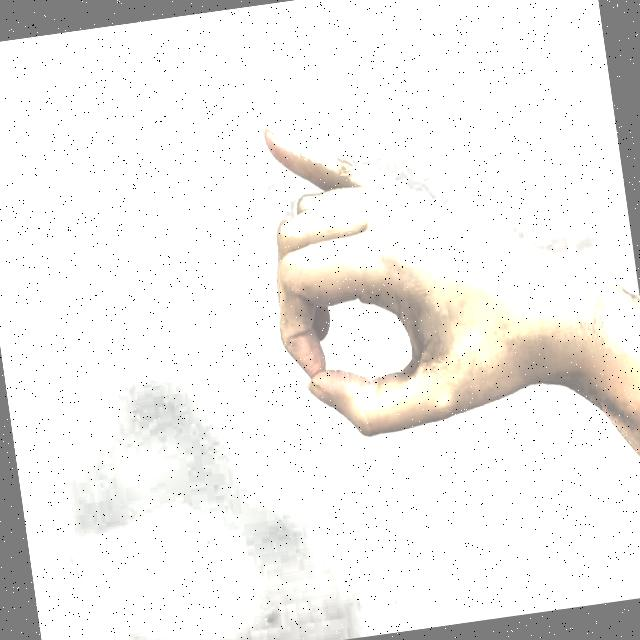Ou: (224, 68, 589, 519)
